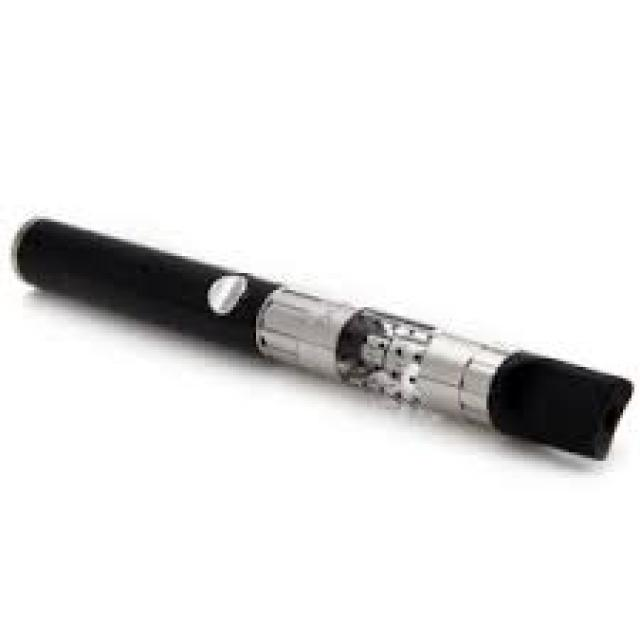Cigarette: (13, 215, 632, 462)
